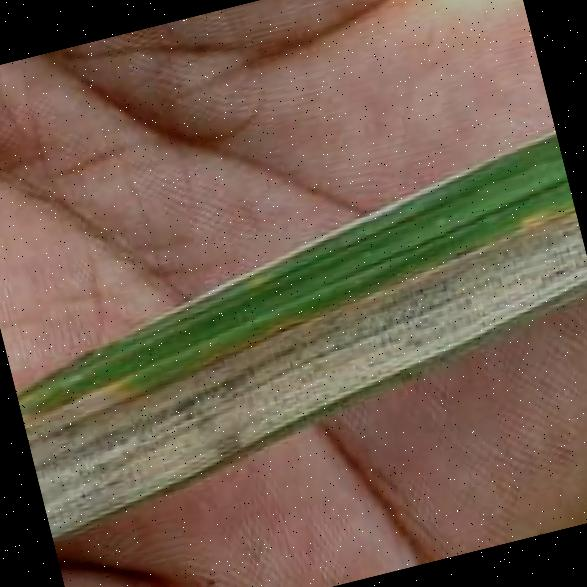Bacteria_Leaf_Blight: (86, 218, 587, 469)
